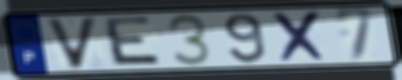3: (165, 12, 213, 68)
7: (332, 5, 376, 65)
9: (221, 12, 268, 65)
E: (103, 15, 165, 68)
V: (43, 15, 101, 72)
X: (270, 9, 332, 65)
